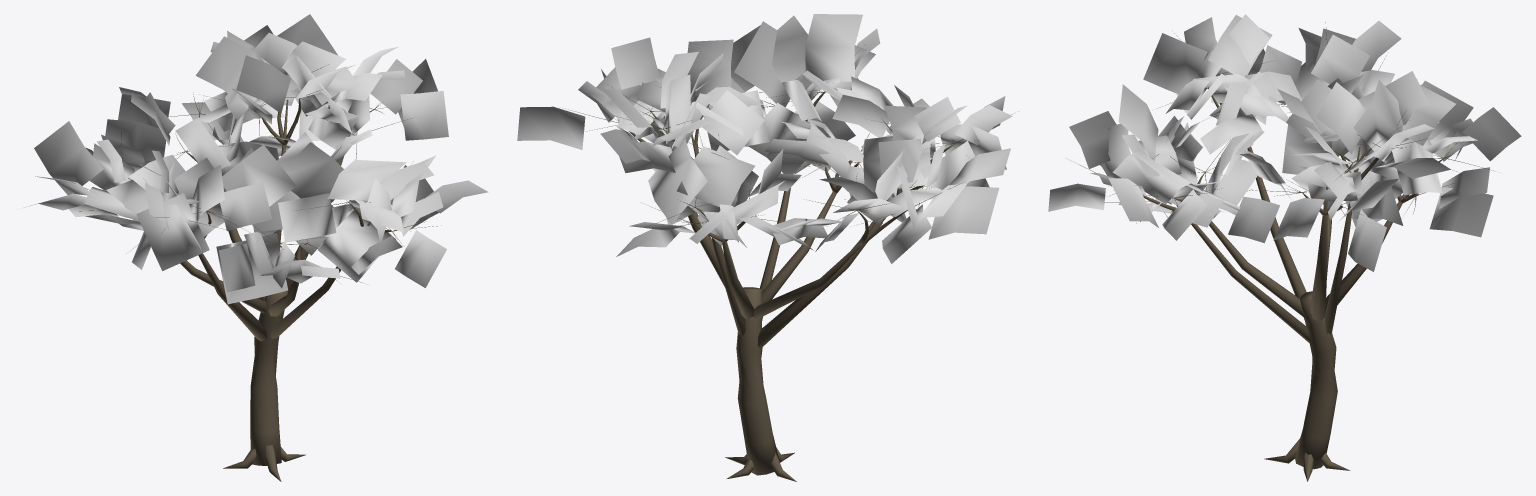
File: V7_CheneVert_0_Niveau2.fbx
3 views of the same model, side by side, from view 1: azimuth 30°, elevation 25°; view 2: azimuth 150°, elevation 25°; view 3: azimuth 270°, elevation 25° (orthographic). The views are drawn at different scales.
Visible parts, largest first — view 1: V7_CheneVert_0_Detail2; view 2: V7_CheneVert_0_Detail2; view 3: V7_CheneVert_0_Detail2.
Boxes of the visible parts, left/top/right/bottom form: V7_CheneVert_0_Detail2: left=25, top=14, right=488, bottom=481; V7_CheneVert_0_Detail2: left=517, top=14, right=1014, bottom=481; V7_CheneVert_0_Detail2: left=1048, top=14, right=1521, bottom=481.
Bounding box in the file's own units: 703 × 613 × 646.
